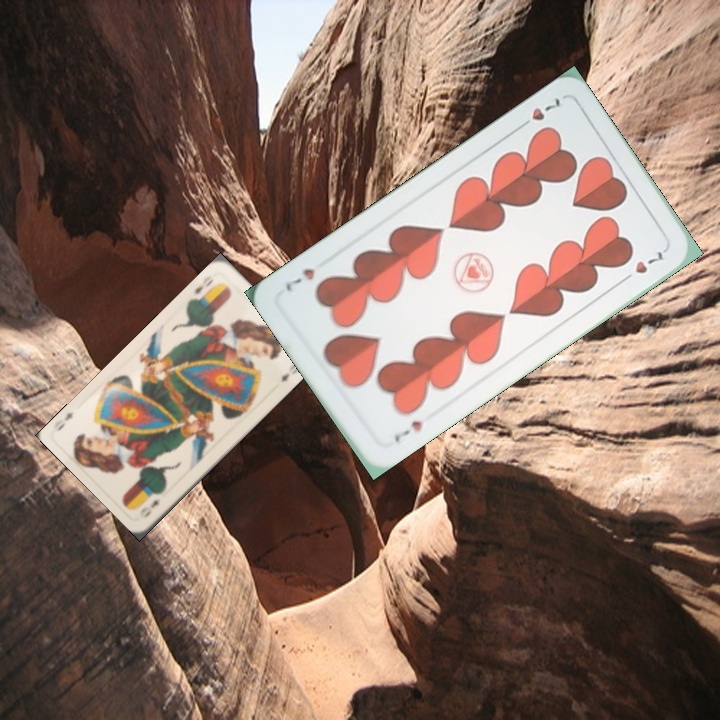EO: (188, 275, 222, 303), (135, 494, 164, 521)
H7: (514, 93, 563, 133), (389, 416, 425, 445)
